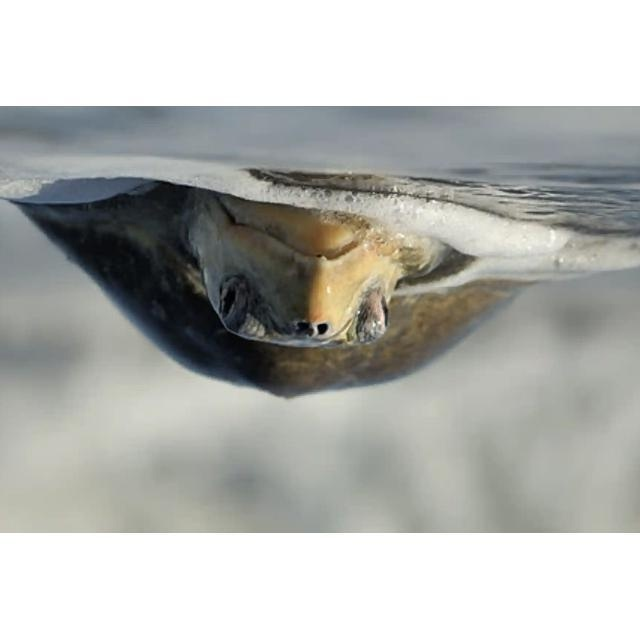turtle: (12, 183, 542, 397)
